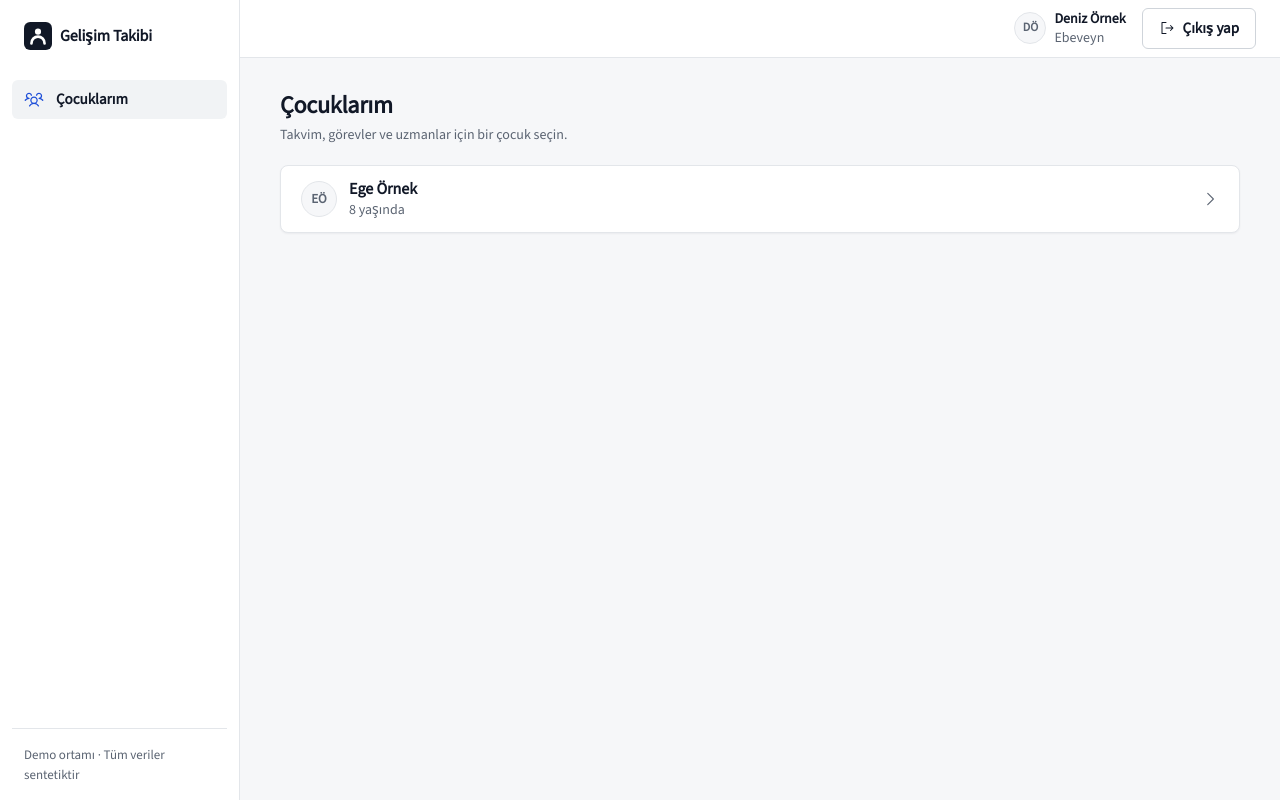
session (FR-M1-04) › logs out, forgets the token and protects the screens again
Click the button with test id "logout-button" at (1199, 28), box [1142, 8, 1256, 48]
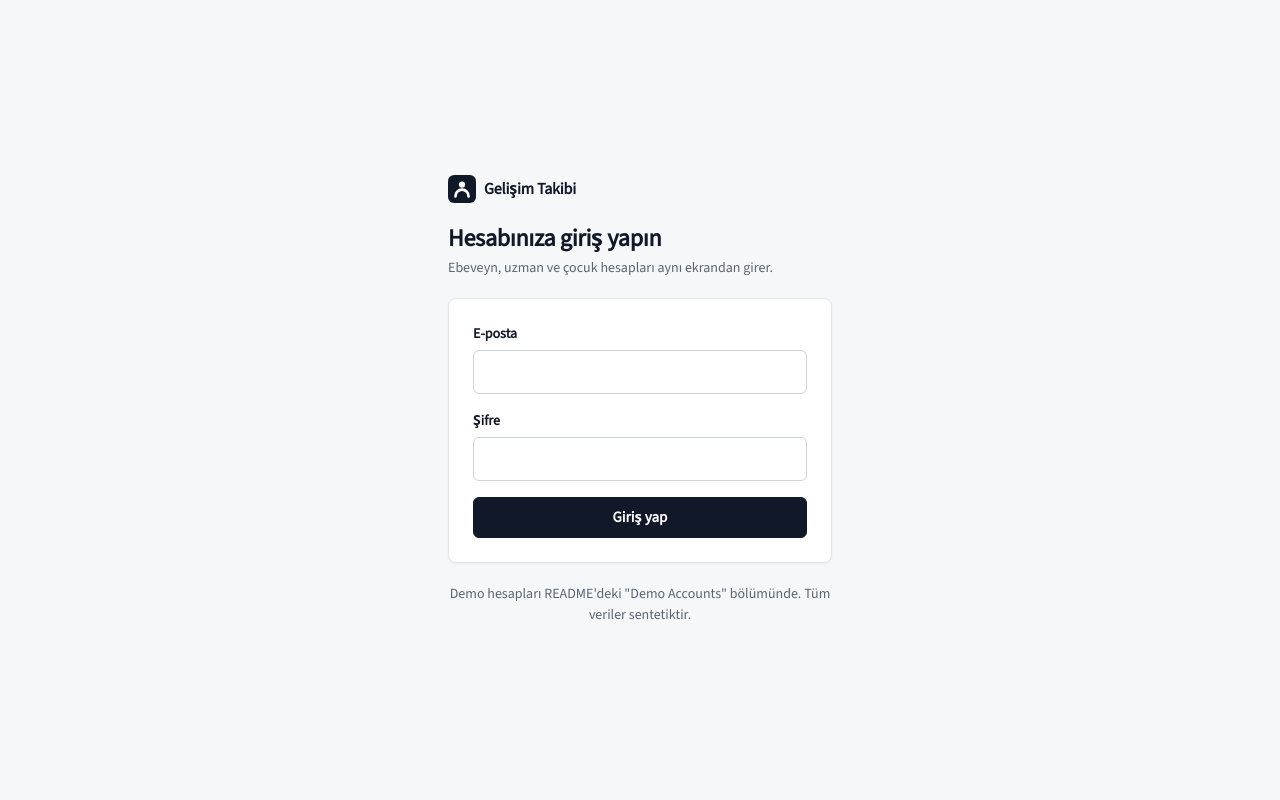
Check: the heading "Hesabınıza giriş yapın" is shown, box [448, 222, 661, 254]
